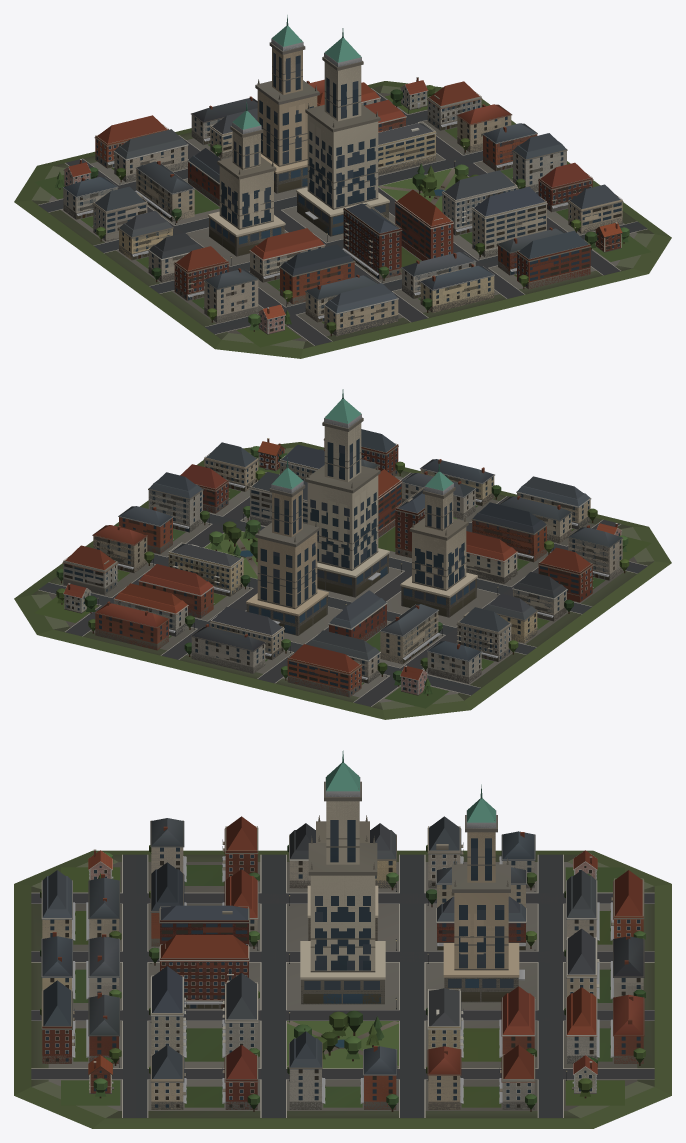
The model's file is city_ww1_city.glb.
The picture shows the model from 3 angles, top to bottom: view 1: azimuth 30°, elevation 25°; view 2: azimuth 150°, elevation 25°; view 3: azimuth 270°, elevation 25°; orthographic projection. The views are drawn at different scales.
Visible parts, largest first — view 1: city_ww1_city_LOD0_mesh, city_ww1_city_LOD1_mesh, city_ww1_city_LOD2_mesh; view 2: city_ww1_city_LOD0_mesh, city_ww1_city_LOD1_mesh, city_ww1_city_LOD2_mesh; view 3: city_ww1_city_LOD0_mesh, city_ww1_city_LOD2_mesh, city_ww1_city_LOD1_mesh.
Boxes of the visible parts, bbox=[...] form: city_ww1_city_LOD0_mesh: bbox=[35, 15, 650, 347]; city_ww1_city_LOD1_mesh: bbox=[58, 17, 629, 336]; city_ww1_city_LOD2_mesh: bbox=[14, 25, 671, 358]; city_ww1_city_LOD0_mesh: bbox=[35, 389, 650, 708]; city_ww1_city_LOD1_mesh: bbox=[56, 389, 627, 696]; city_ww1_city_LOD2_mesh: bbox=[14, 399, 671, 719]; city_ww1_city_LOD0_mesh: bbox=[31, 751, 654, 1117]; city_ww1_city_LOD2_mesh: bbox=[14, 762, 671, 1128]; city_ww1_city_LOD1_mesh: bbox=[42, 750, 644, 1109].
Bounding box in the file's own units: 266 × 108 × 266.
